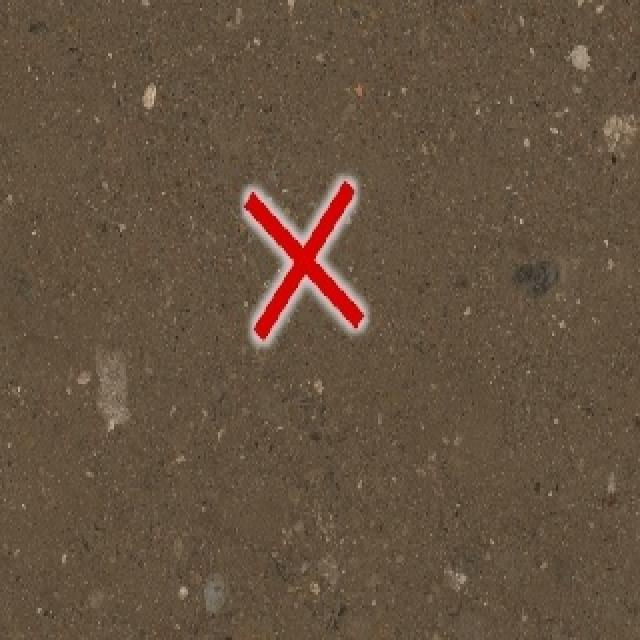x_marker: (245, 180, 363, 340)
